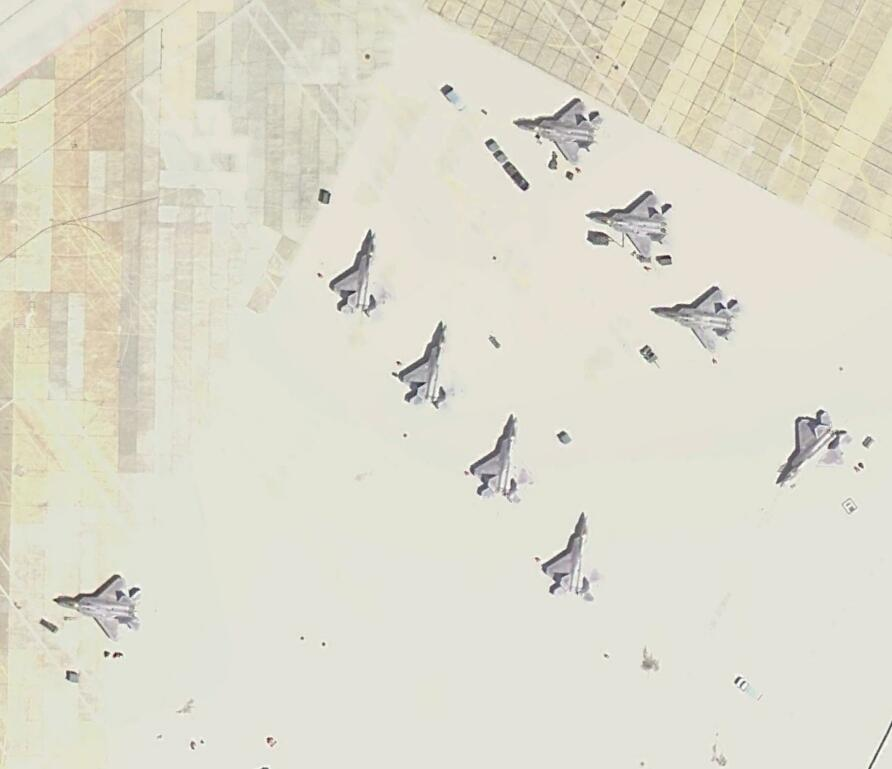A15: (467, 411, 540, 505), (651, 286, 746, 356), (396, 318, 465, 413), (513, 95, 606, 165), (543, 508, 608, 607), (587, 190, 676, 262), (55, 572, 146, 642), (329, 229, 393, 321), (779, 410, 852, 485)
